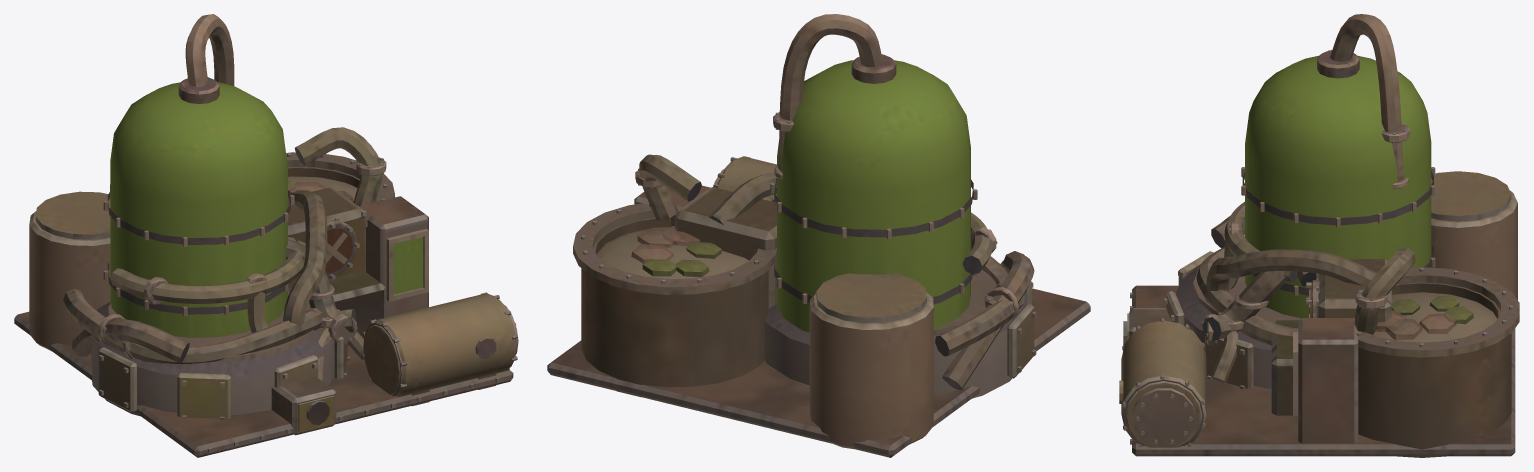
Rendered from biochamber.glb.
The picture shows the model from 3 angles, left to right: view 1: azimuth 30°, elevation 25°; view 2: azimuth 150°, elevation 25°; view 3: azimuth 270°, elevation 25°; orthographic projection. The views are drawn at different scales.
Parts seen in each view (by area): view 1: body, anim_glow_biochamber; view 2: body, anim_glow_biochamber; view 3: body, anim_glow_biochamber.
Part boxes in pixels (x1,y1,x2,y2): body: (14, 14, 518, 457); anim_glow_biochamber: (110, 82, 423, 337); body: (547, 14, 1090, 457); anim_glow_biochamber: (777, 60, 970, 332); body: (1119, 14, 1519, 457); anim_glow_biochamber: (1245, 55, 1431, 318).
Bounding box in the file's own units: 3.08 × 2.84 × 3.01.
Materials: 3 (3 with a texture image).
